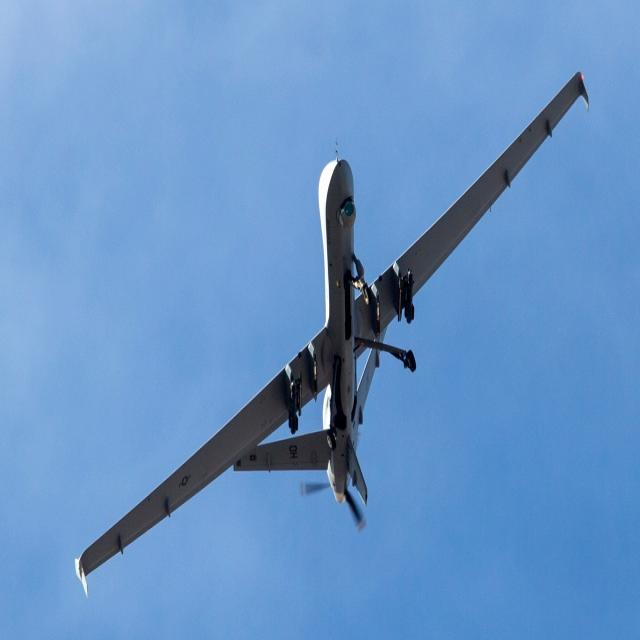MQ9: (26, 36, 619, 610)
